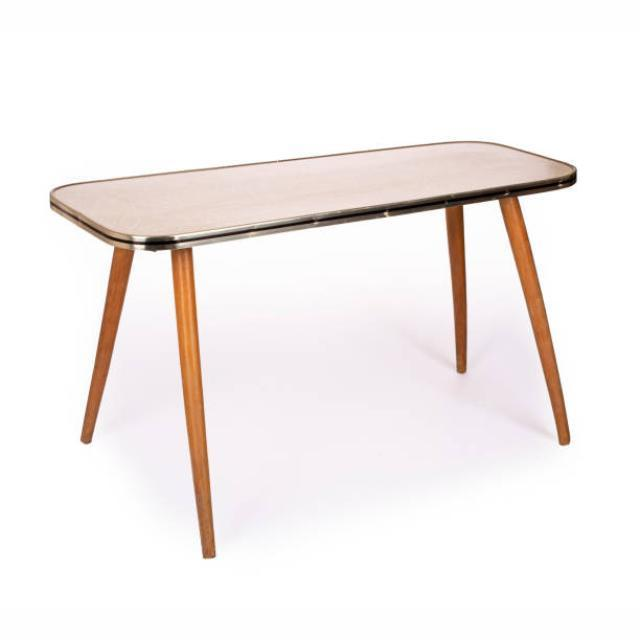table: (48, 137, 577, 558)
